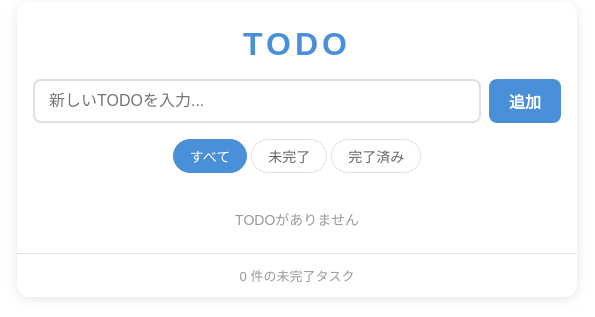
TodoApp › TODO削除 › 削除ボタンをクリックするとTODOが削除される
This screenshot has width=595, height=317.
Type "削除テスト" into the field with placeholder "新しいTODOを入力..." at [257, 101], box [33,79,481,123]
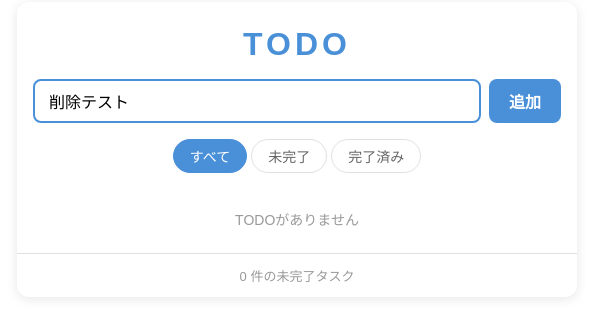
Click the button "追加" at [525, 101], box [489,79,561,123]
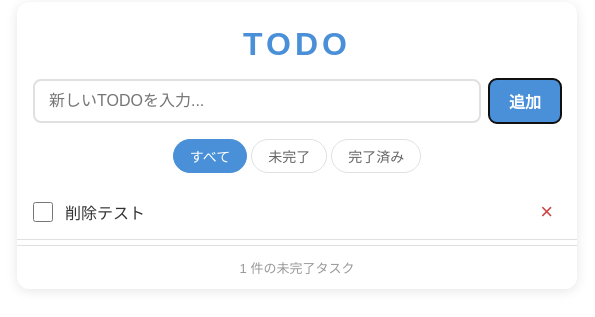
Now the text "削除テスト" is shown, box [65,200,145,224]
Click the button named "削除" at [547, 212], box [532,197,561,227]
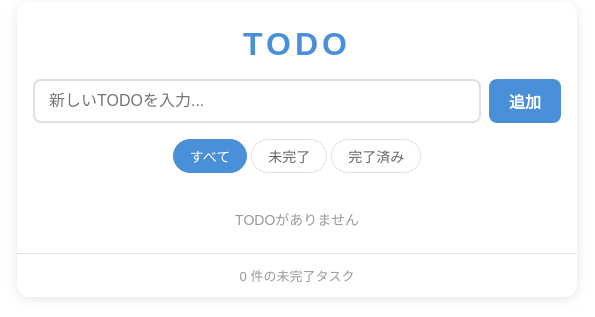
Now the text "削除テスト" is gone
Now the list item "TODOがありません" is shown, box [235,212,359,228]
Now the text "0 件の未完了タスク" is shown, box [240,269,354,284]
